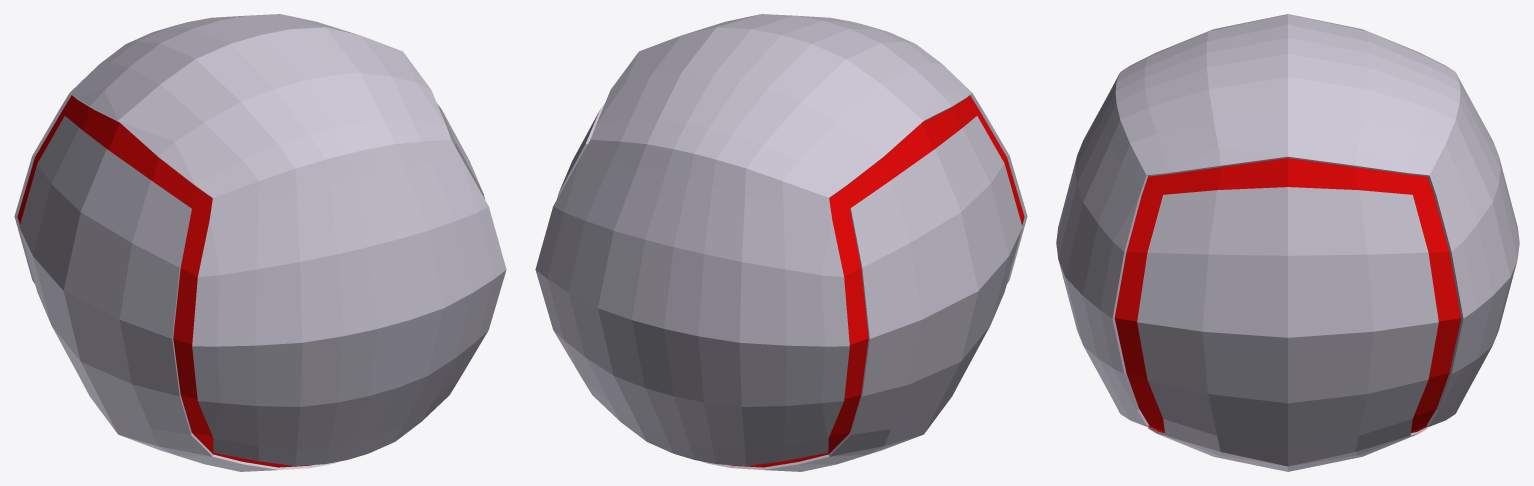
The model's file is Baseball.fbx.
3 views of the same model, side by side, from view 1: azimuth 30°, elevation 25°; view 2: azimuth 150°, elevation 25°; view 3: azimuth 270°, elevation 25° (orthographic).
Parts seen in each view (by area): view 1: Baseball; view 2: Baseball; view 3: Baseball.
Boxes of the visible parts, <box> form: Baseball: <box>14,14,506,471</box>; Baseball: <box>535,14,1027,471</box>; Baseball: <box>1056,14,1519,471</box>.
Bounding box in the file's own units: 91.52 × 92.36 × 94.5.
